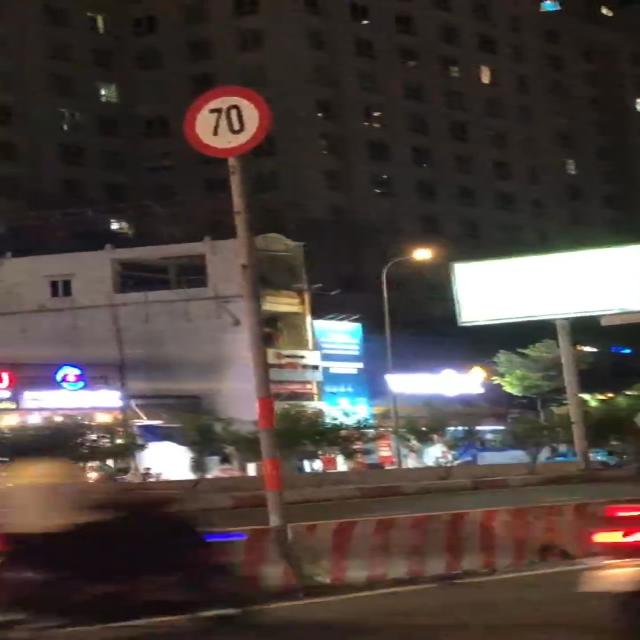Bien bao toc do toi da cho phep: (171, 80, 279, 157)
